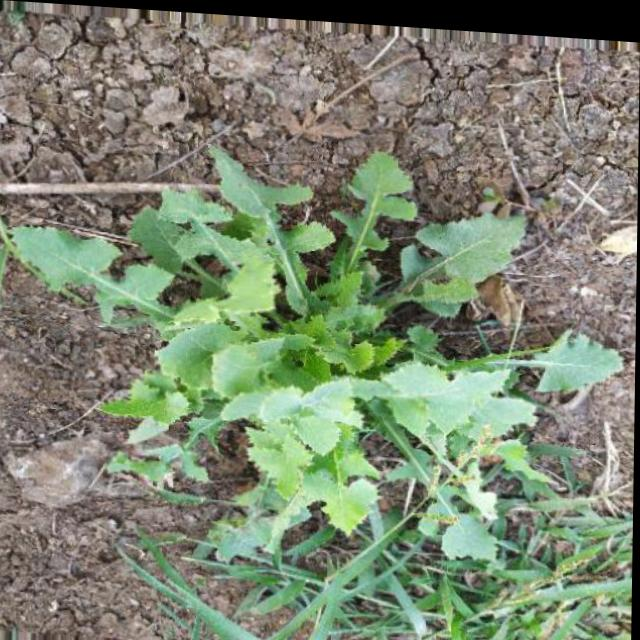weed: (32, 125, 609, 614)
